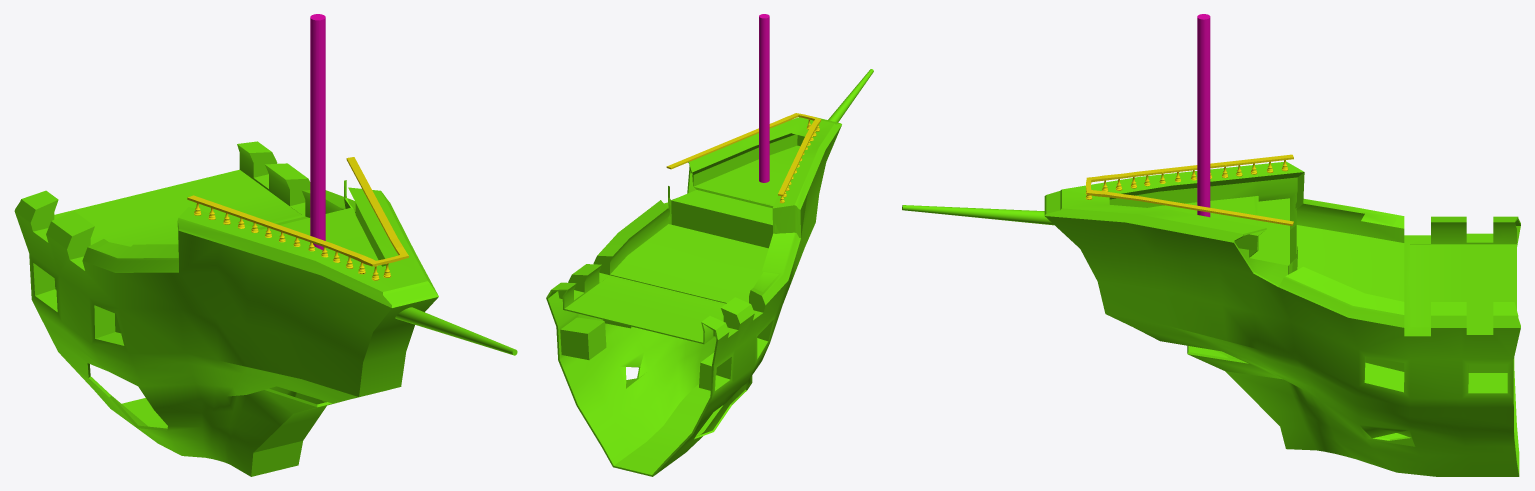
Rendered from ship-front.fbx.
The picture shows the model from 3 angles, left to right: view 1: azimuth 30°, elevation 25°; view 2: azimuth 150°, elevation 25°; view 3: azimuth 270°, elevation 25°; orthographic projection. The views are drawn at different scales.
Parts seen in each view (by area): view 1: Ship Body.003, Pillar 2.002, Cylinder.132; view 2: Ship Body.003, Pillar 2.002, Cylinder.132; view 3: Ship Body.003, Cylinder.132, Pillar 2.002.
Part boxes in pixels (x1=…): Ship Body.003: x1=14, y1=141, x2=517, y2=476; Pillar 2.002: x1=310, y1=14, x2=325, y2=250; Cylinder.132: x1=187, y1=157, x2=408, y2=280; Ship Body.003: x1=546, y1=69, x2=873, y2=476; Pillar 2.002: x1=759, y1=14, x2=769, y2=182; Cylinder.132: x1=666, y1=113, x2=821, y2=203; Ship Body.003: x1=902, y1=161, x2=1520, y2=476; Cylinder.132: x1=1085, y1=154, x2=1293, y2=225; Pillar 2.002: x1=1197, y1=14, x2=1210, y2=217.
Bounding box in the file's own units: 1848 × 3722 × 4678.
